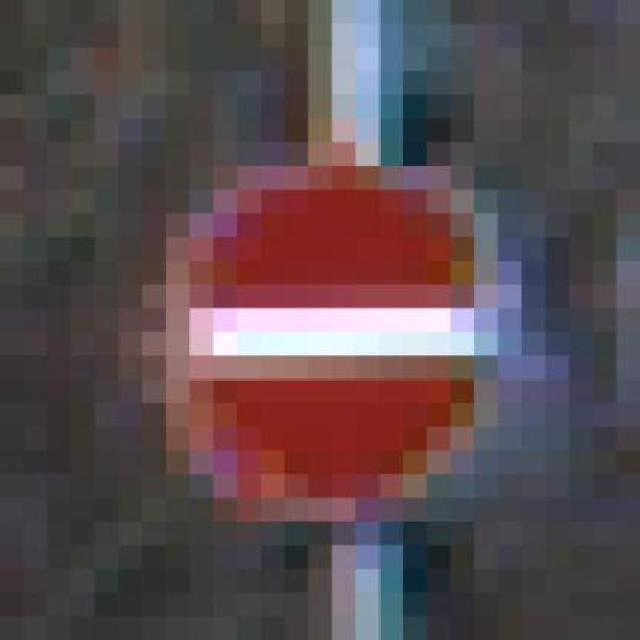No Entry: (118, 95, 545, 498)
